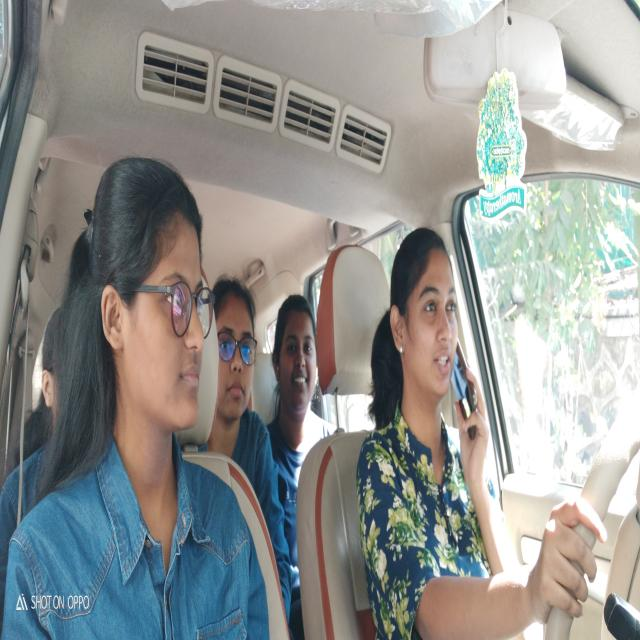mobile: (452, 353, 482, 437)
person: (78, 148, 212, 438), (387, 224, 463, 401), (208, 274, 258, 423), (270, 288, 316, 418), (38, 299, 61, 435)
